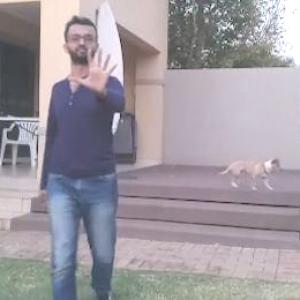follow_hand: (66, 43, 122, 100)
